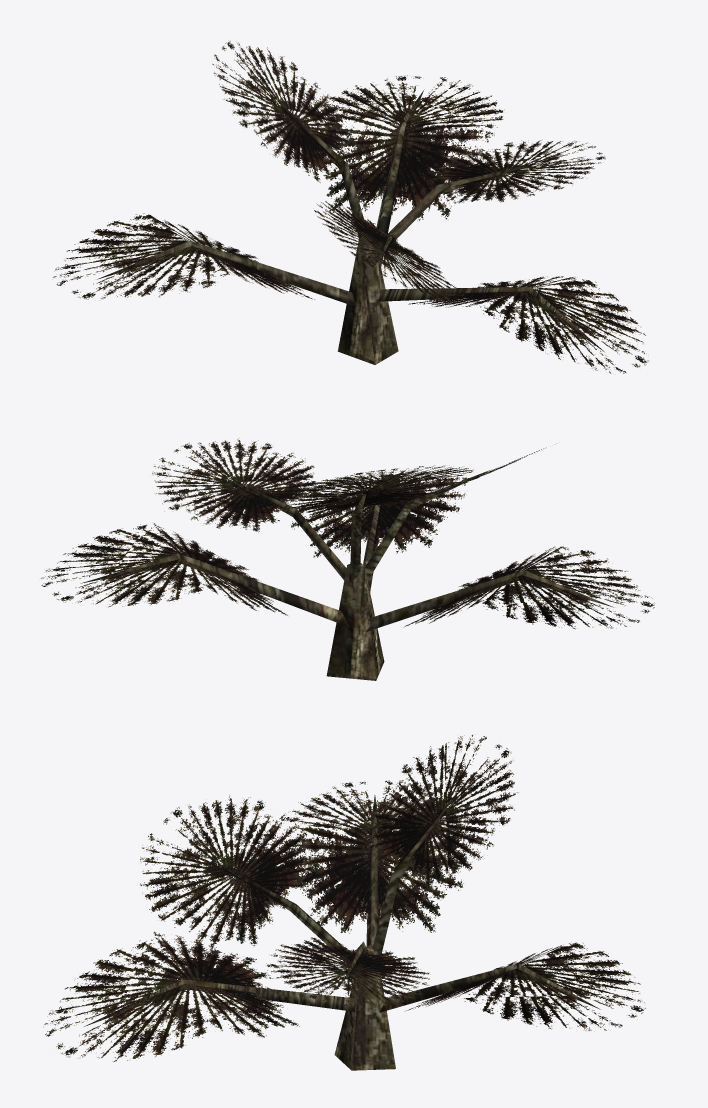
Rendered from OW_LOB_BUSH_V7.glb.
The picture shows the model from 3 angles, top to bottom: view 1: azimuth 30°, elevation 25°; view 2: azimuth 150°, elevation 25°; view 3: azimuth 270°, elevation 25°; orthographic projection. The views are drawn at different scales.
Visible parts, largest first — view 1: Mesh; view 2: Mesh; view 3: Mesh.
Part boxes in pixels (<box>): Mesh: <box>52,41,648,373</box>; Mesh: <box>41,438,654,680</box>; Mesh: <box>43,734,645,1070</box>.
Size of the model in its own units: 3.67 by 1.75 by 3.85.
Materials: 2 (2 with a texture image).
